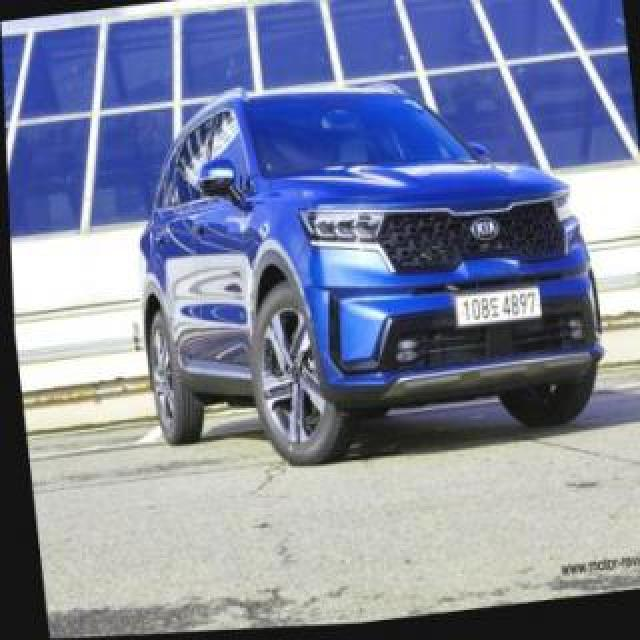car: (128, 72, 607, 482)
illegal_plate: (452, 284, 542, 333)
